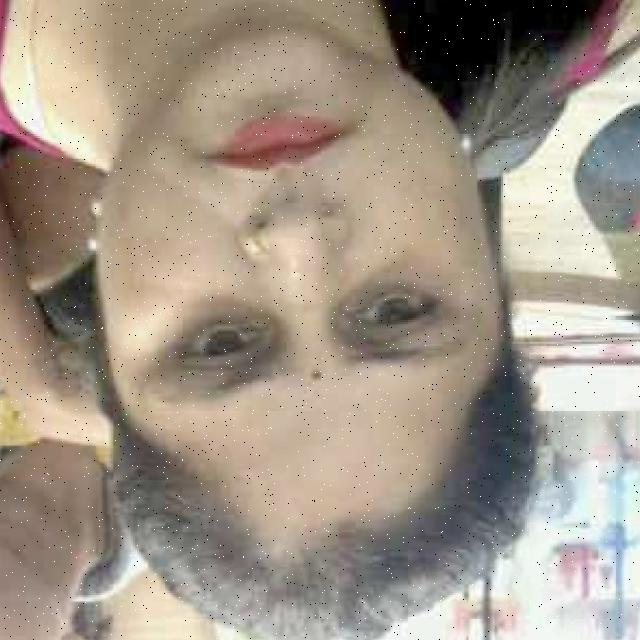puffy_eyes: (340, 269, 444, 310), (184, 304, 276, 347)
